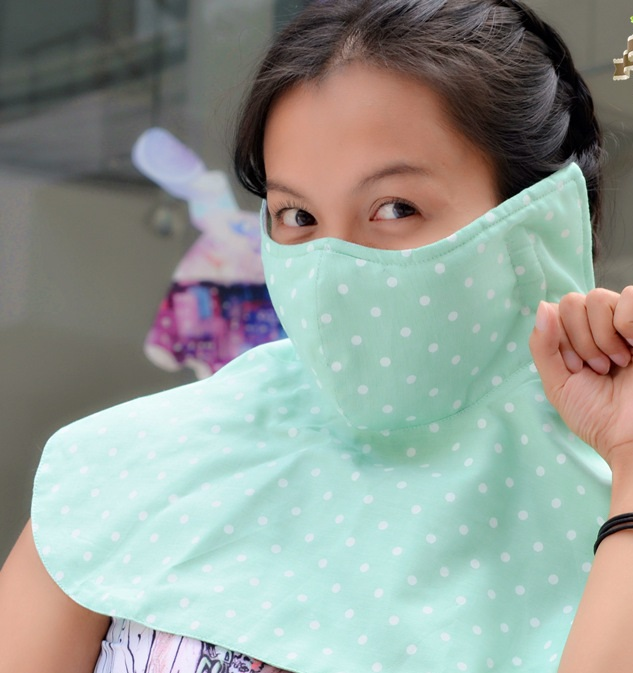face_mask: (262, 78, 503, 420)
